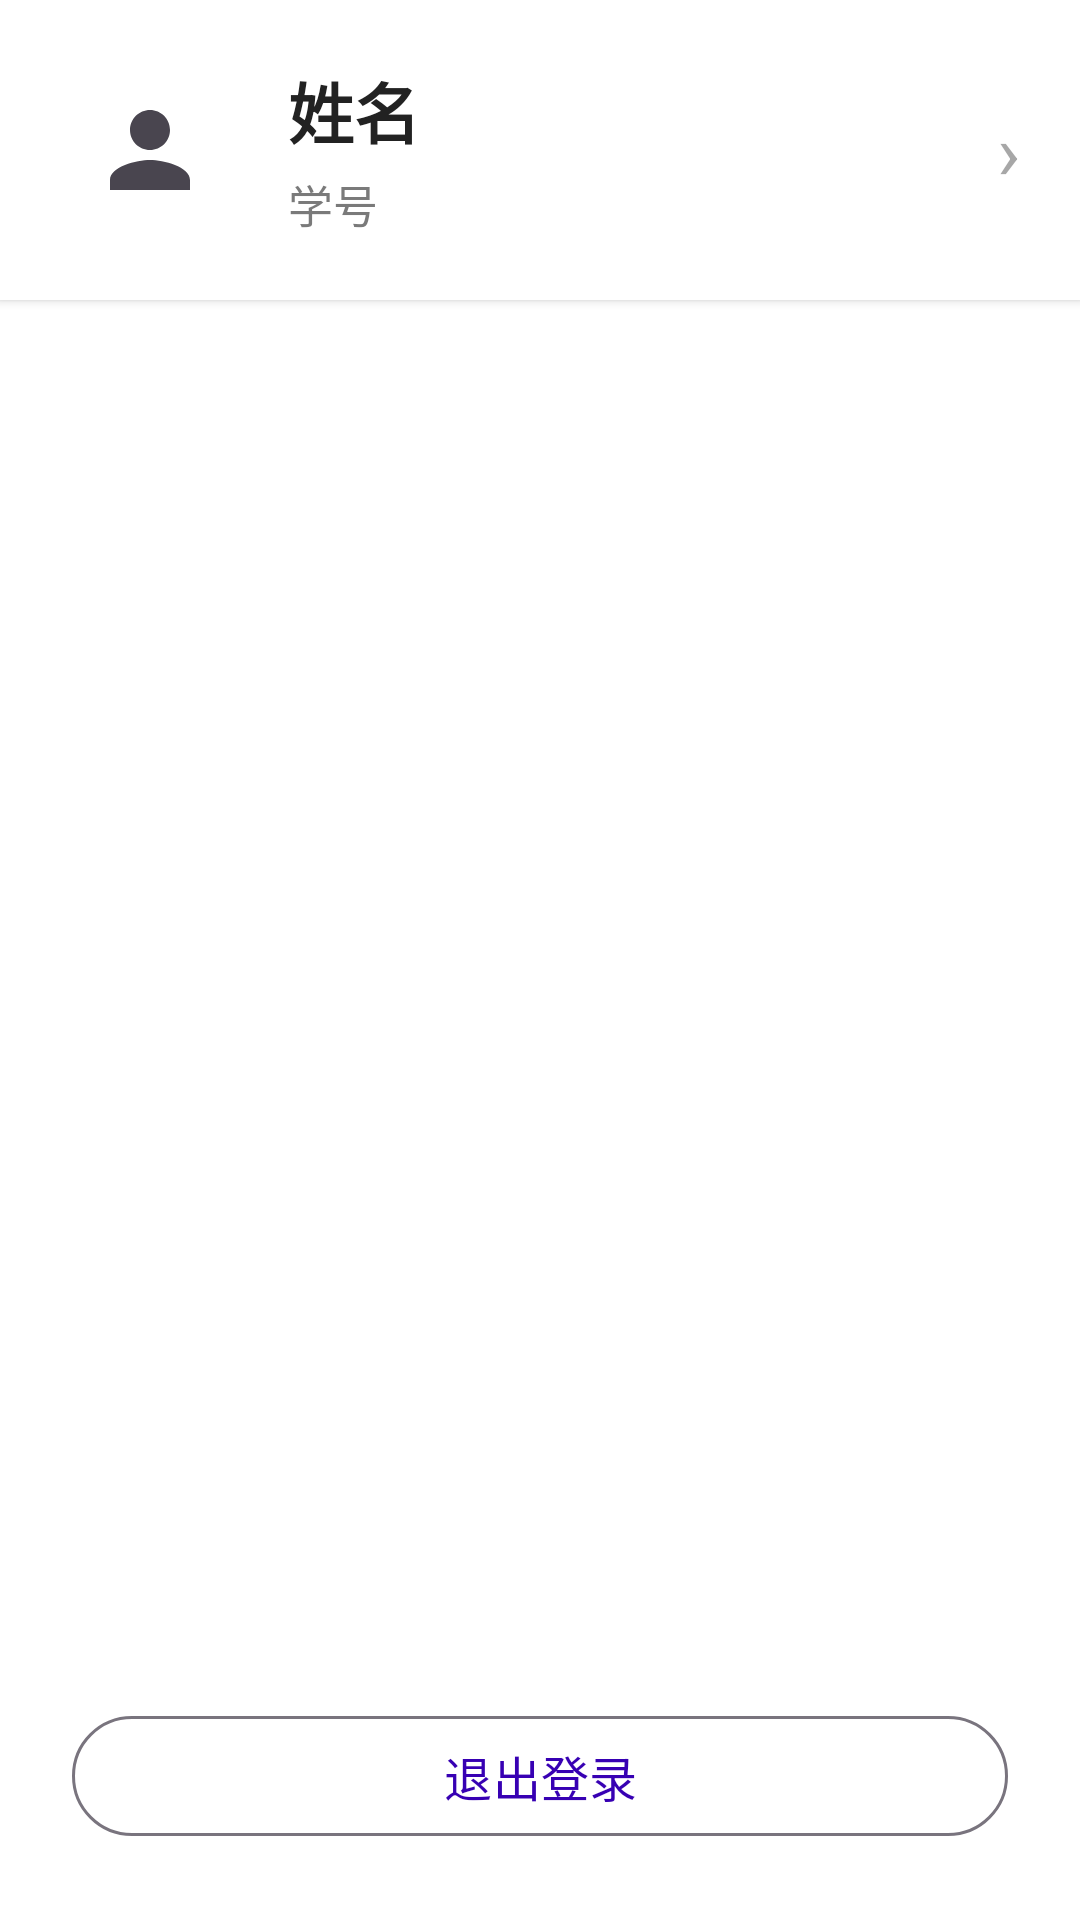

Where to tap for icons on this 1080px×1920px app screen, as (x=x, y=y):
头像: (x=150, y=150)
